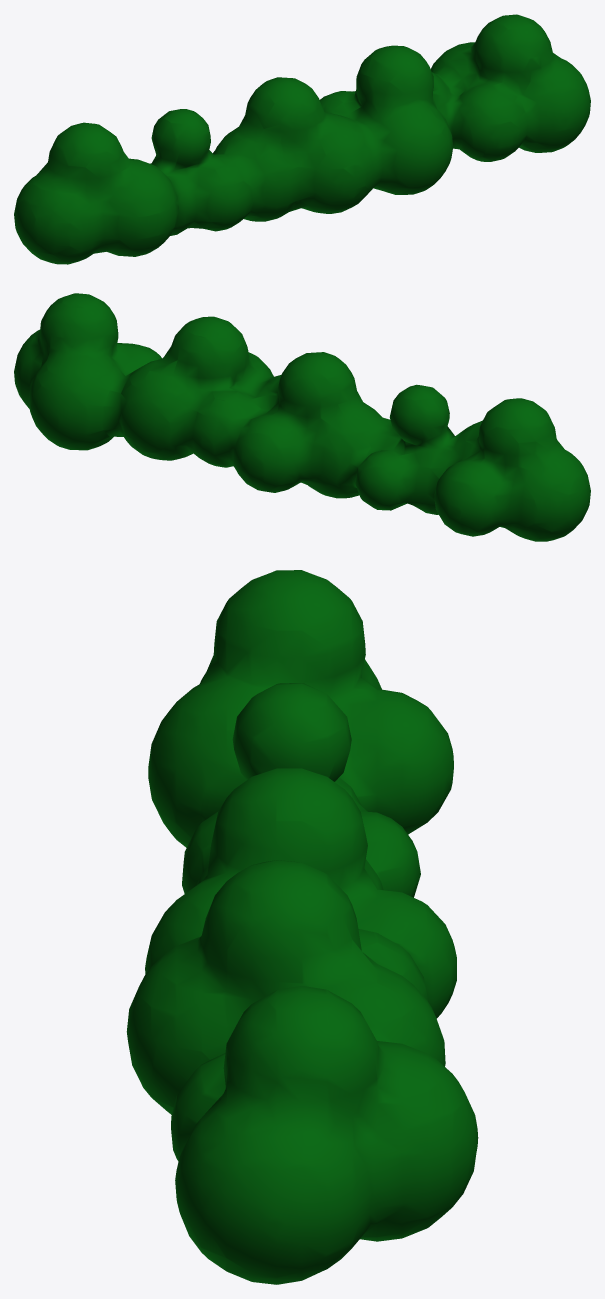
File: Bush.fbx
3 renders of one model, top to bottom at view 1: azimuth 30°, elevation 25°; view 2: azimuth 150°, elevation 25°; view 3: azimuth 270°, elevation 25°, orthographic. The views are drawn at different scales.
Parts seen in each view (by area): view 1: Mball.020; view 2: Mball.020; view 3: Mball.020.
Boxes of the visible parts, bbox=[...] form: Mball.020: bbox=[14, 14, 590, 264]; Mball.020: bbox=[14, 293, 590, 541]; Mball.020: bbox=[126, 570, 478, 1284].
Bounding box in the file's own units: 2061 × 482 × 560.
